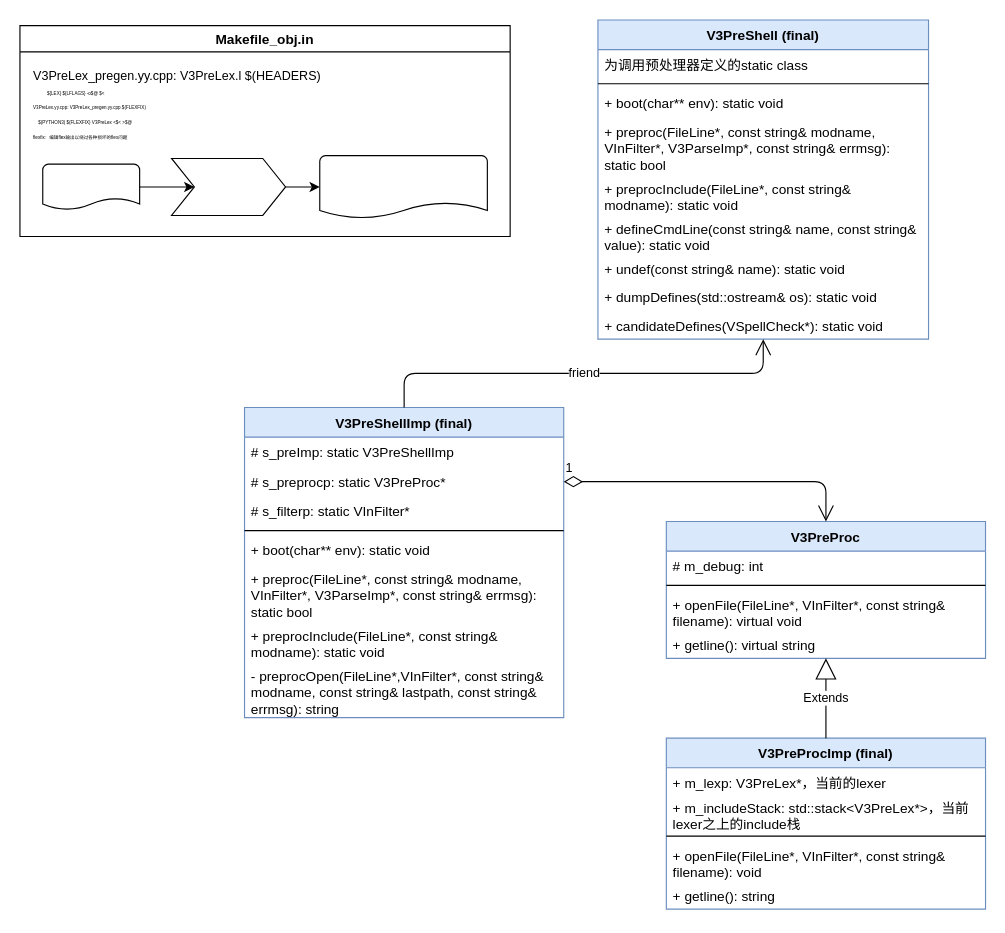
Image size: 1005x933. Some labels were removed from this diagram. Each missing label, with the centre of its shape:
"flex & flexfix(.py)" goes at [228,186].
"V3PreLex.l" goes at [91,186].
"V3PreLex_pregen.yy.cpp & V3PreLex.yy.cpp" goes at [403,186].
